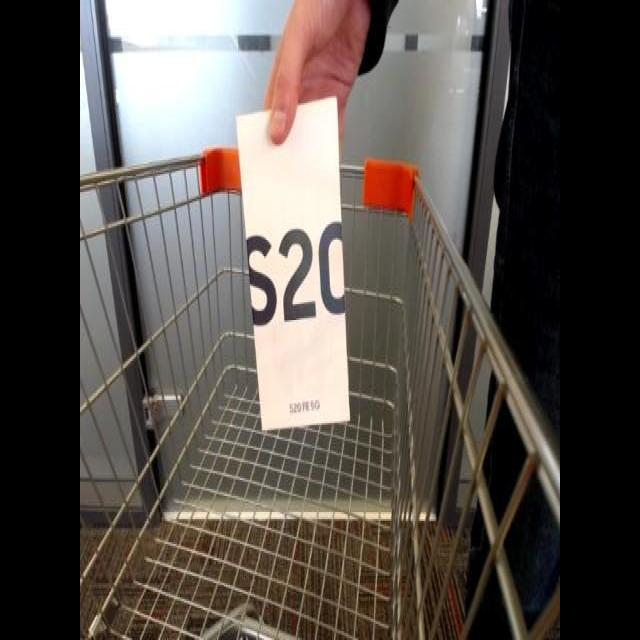Samsung S20: (234, 92, 360, 441)
